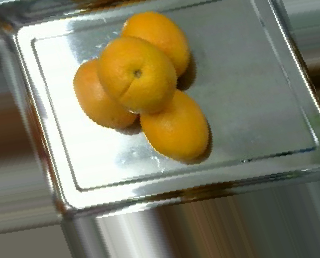Orange: (100, 38, 178, 113), (138, 87, 209, 164), (119, 11, 191, 79), (72, 58, 140, 129)
